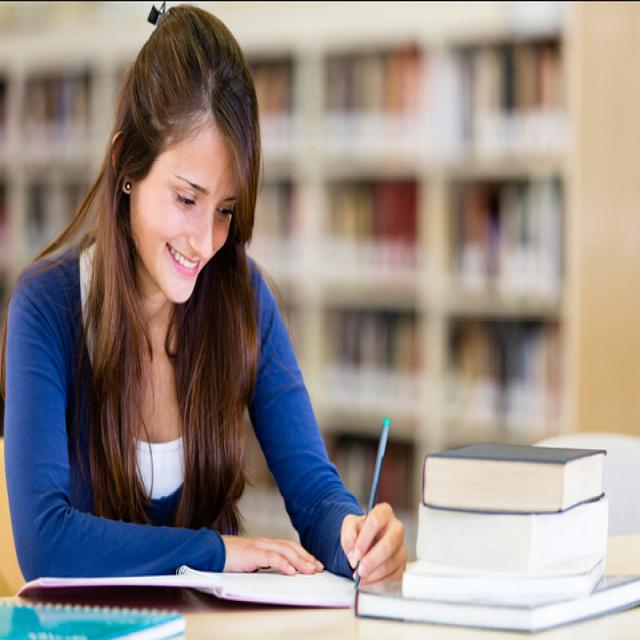studying-person: (1, 3, 613, 635)
